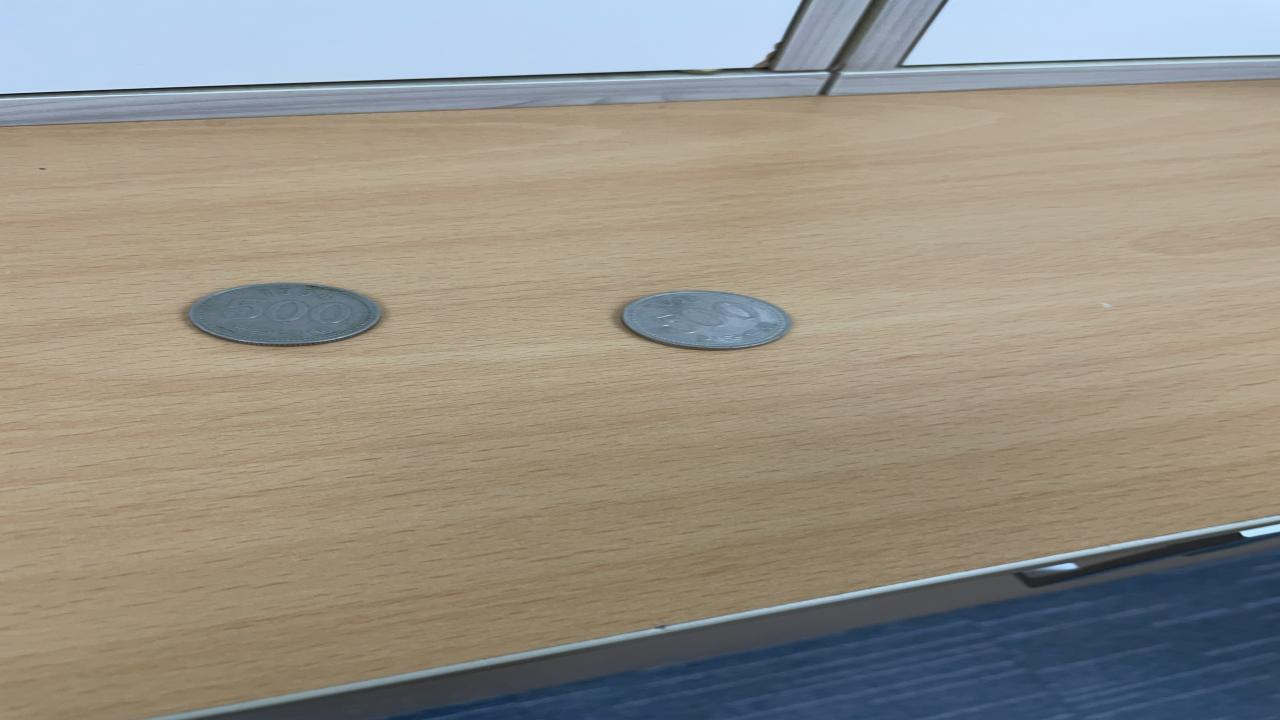coin: (186, 282, 382, 346), (617, 287, 800, 352)
